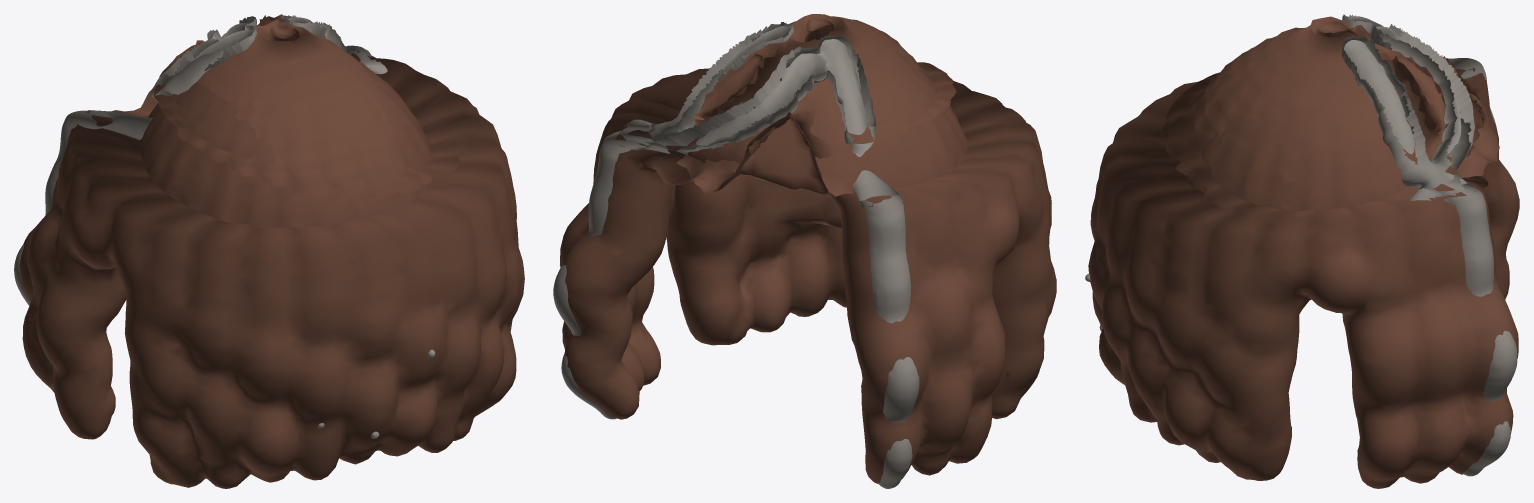
The model's file is hair_bob_f.glb.
3 views of the same model, side by side, from view 1: azimuth 30°, elevation 25°; view 2: azimuth 150°, elevation 25°; view 3: azimuth 270°, elevation 25° (orthographic).
Visible parts, largest first — view 1: Acc_hair_bob_HairBob, Acc_hair_bob_HairBobGrey; view 2: Acc_hair_bob_HairBob, Acc_hair_bob_HairBobGrey; view 3: Acc_hair_bob_HairBob, Acc_hair_bob_HairBobGrey.
Part boxes in pixels (bbox=[...]): Acc_hair_bob_HairBob: bbox=[19, 14, 524, 488]; Acc_hair_bob_HairBobGrey: bbox=[14, 15, 435, 438]; Acc_hair_bob_HairBob: bbox=[560, 14, 1056, 483]; Acc_hair_bob_HairBobGrey: bbox=[553, 22, 919, 488]; Acc_hair_bob_HairBob: bbox=[1088, 16, 1519, 488]; Acc_hair_bob_HairBobGrey: bbox=[1085, 14, 1517, 476].
Size of the model in its own units: 0.5288 by 0.4624 by 0.4701.
